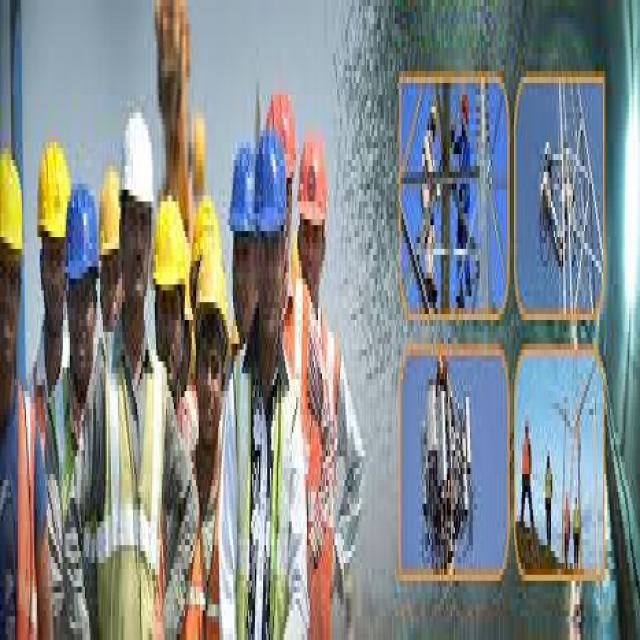Reflective-Jacket: (98, 349, 170, 640), (230, 349, 297, 640), (287, 270, 324, 640), (45, 352, 86, 630), (315, 296, 345, 616), (0, 379, 36, 640)
Safety-Helmet: (191, 195, 230, 332), (152, 178, 189, 302), (65, 172, 102, 284), (120, 101, 155, 219), (37, 130, 71, 249), (298, 119, 330, 237), (252, 125, 287, 231), (228, 130, 260, 243), (0, 142, 25, 261), (98, 154, 124, 267)
